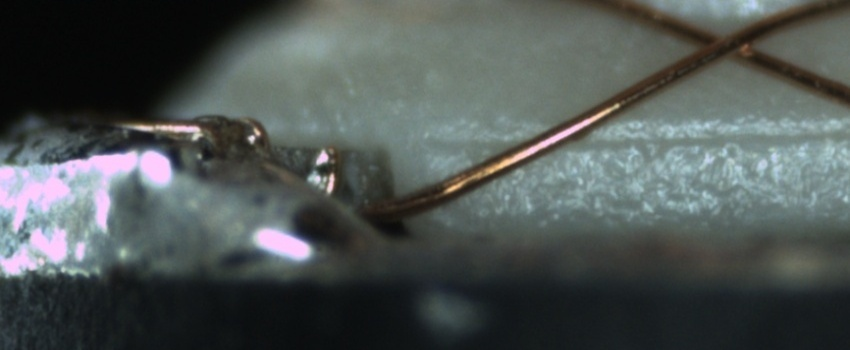CL: (682, 15, 777, 69)
DL: (425, 106, 849, 167)
TE: (104, 112, 346, 197)
